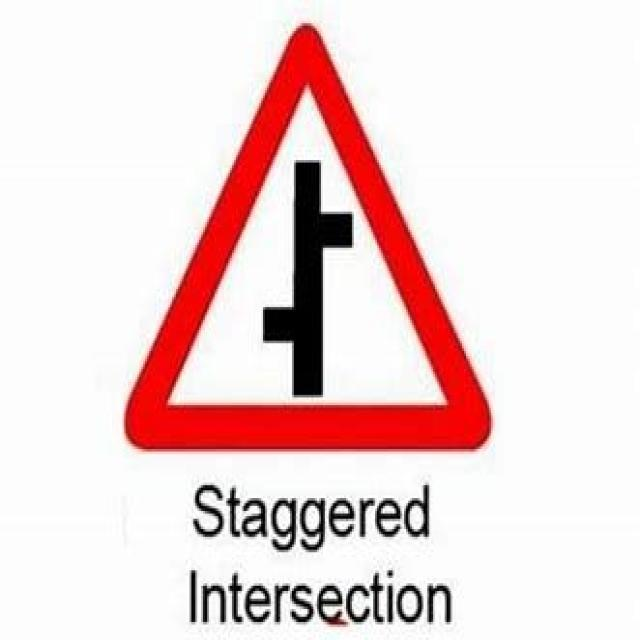staggered intersection: (123, 23, 495, 450)
